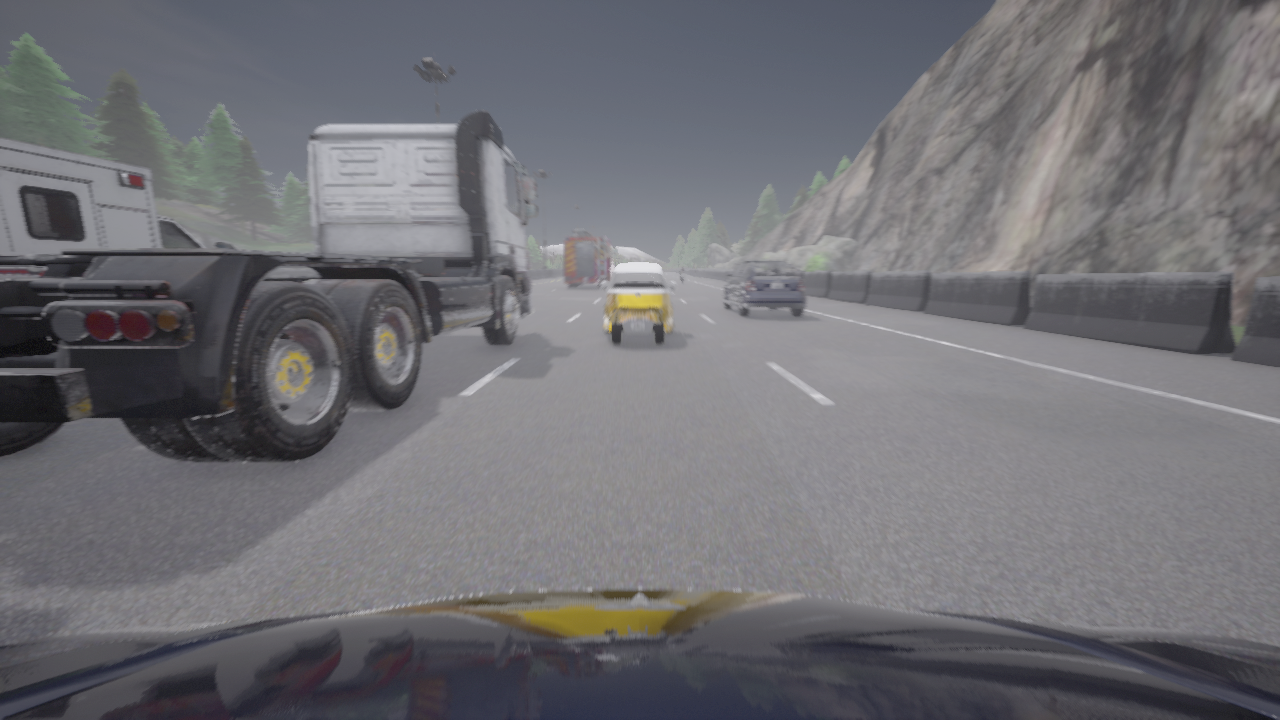cyclist: (0, 110, 537, 462), (0, 588, 1279, 719), (0, 137, 235, 276), (600, 263, 676, 344), (723, 259, 805, 316), (564, 229, 616, 287), (679, 271, 684, 283)
